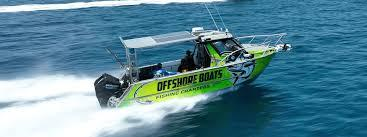fishing boat: (85, 4, 293, 111)
